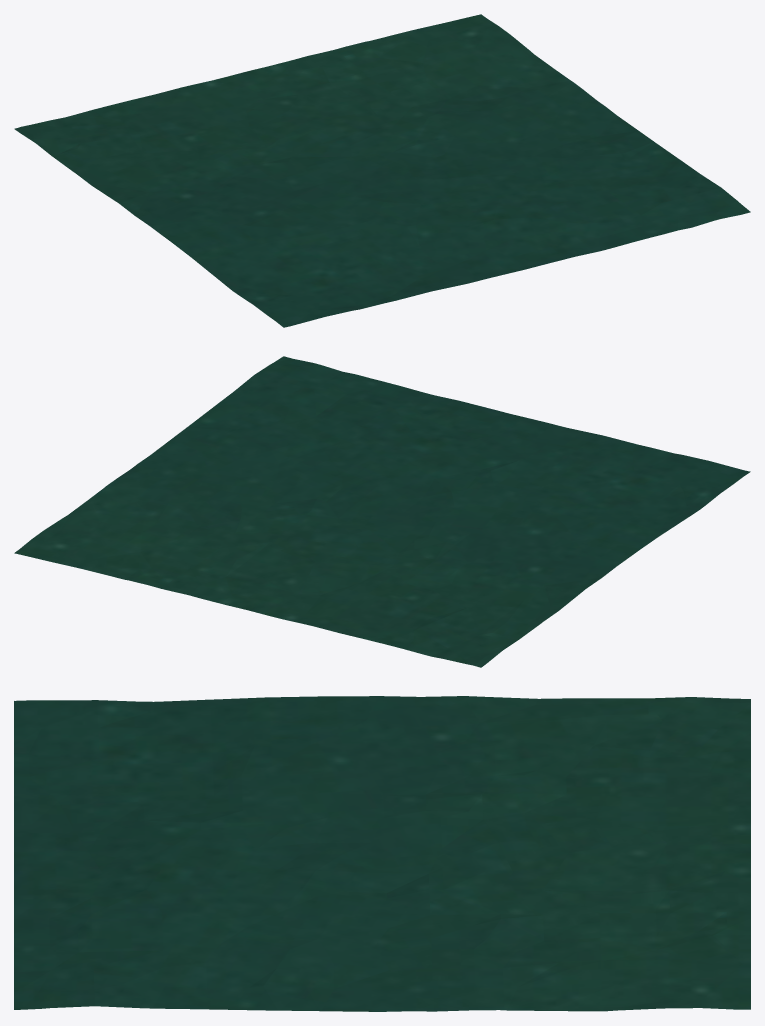
The picture shows the model from 3 angles, top to bottom: view 1: azimuth 30°, elevation 25°; view 2: azimuth 150°, elevation 25°; view 3: azimuth 270°, elevation 25°; orthographic projection. The views are drawn at different scales.
Size of the model in its own units: 52.22 by 0.6174 by 52.22.
2 materials, 2 textured.
